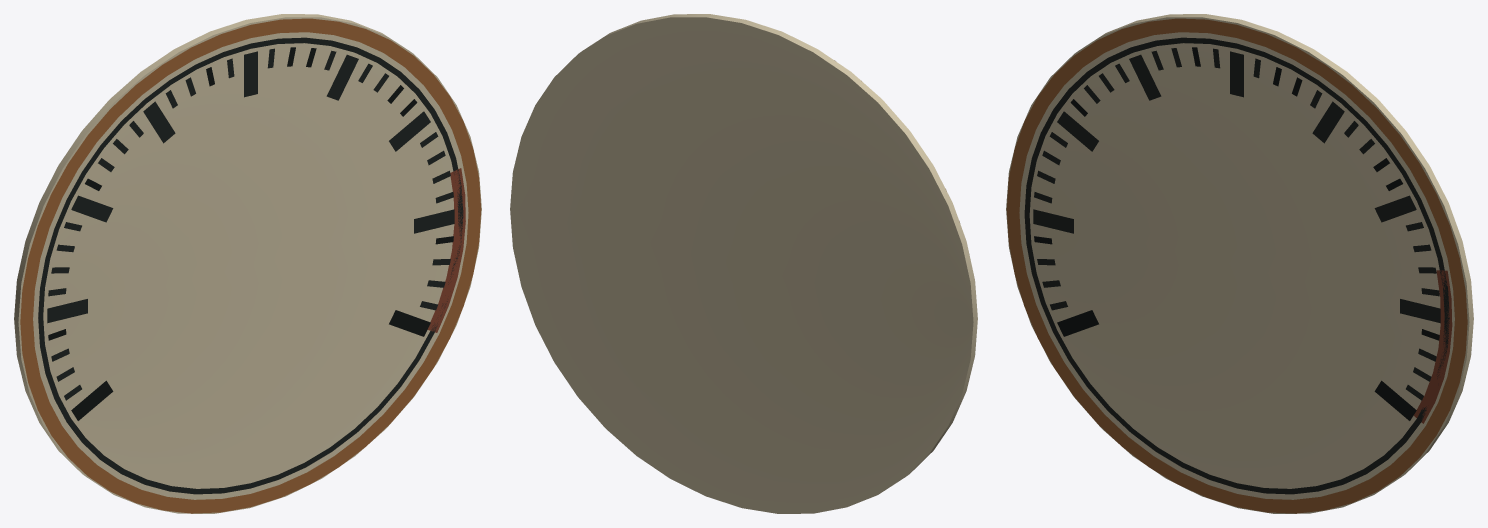
The model's file is gauge_dial_face.glb.
The picture shows the model from 3 angles, left to right: view 1: azimuth 30°, elevation 25°; view 2: azimuth 150°, elevation 25°; view 3: azimuth 330°, elevation 25°; orthographic projection.
Parts seen in each view (by area): view 1: Face; view 2: Face; view 3: Face.
Part boxes in pixels (x1,y1,x2,y2): Face: [14, 14, 481, 513]; Face: [510, 14, 977, 513]; Face: [1006, 14, 1473, 513].
Size of the model in its own units: 1.82 by 1.82 by 0.036.
